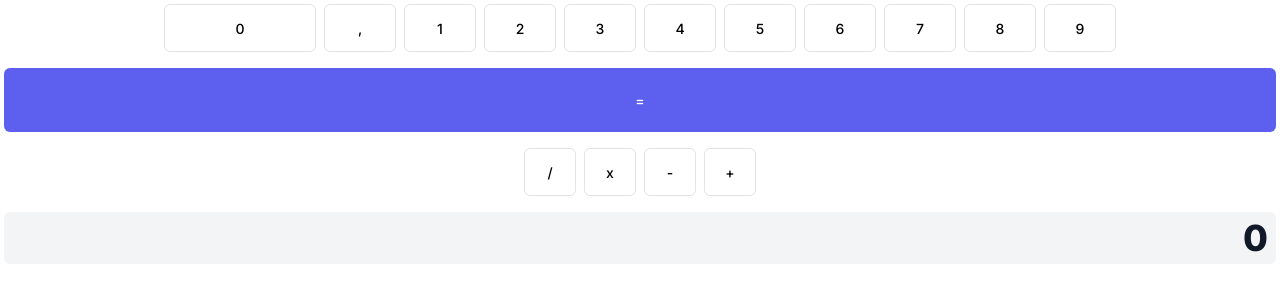
Test case: Test Calculations › Divide by zero
Click the button "=" at (640, 100), box [4,68,1276,132]
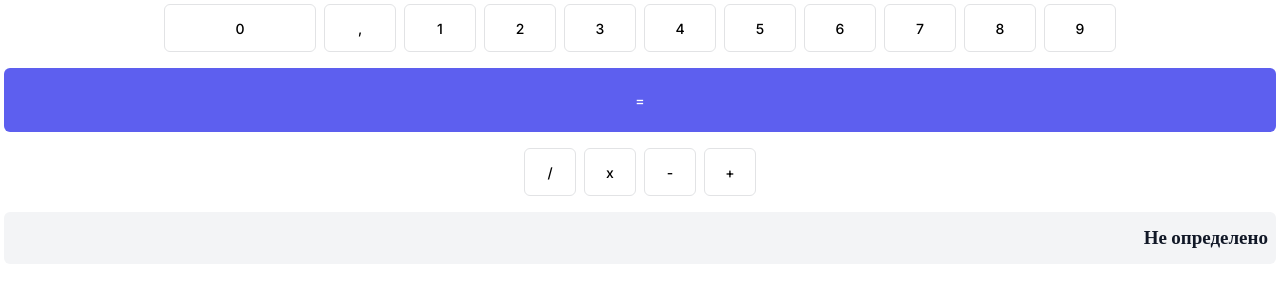
expect the text "Не определено" is shown: met, box [4,212,1276,264]
